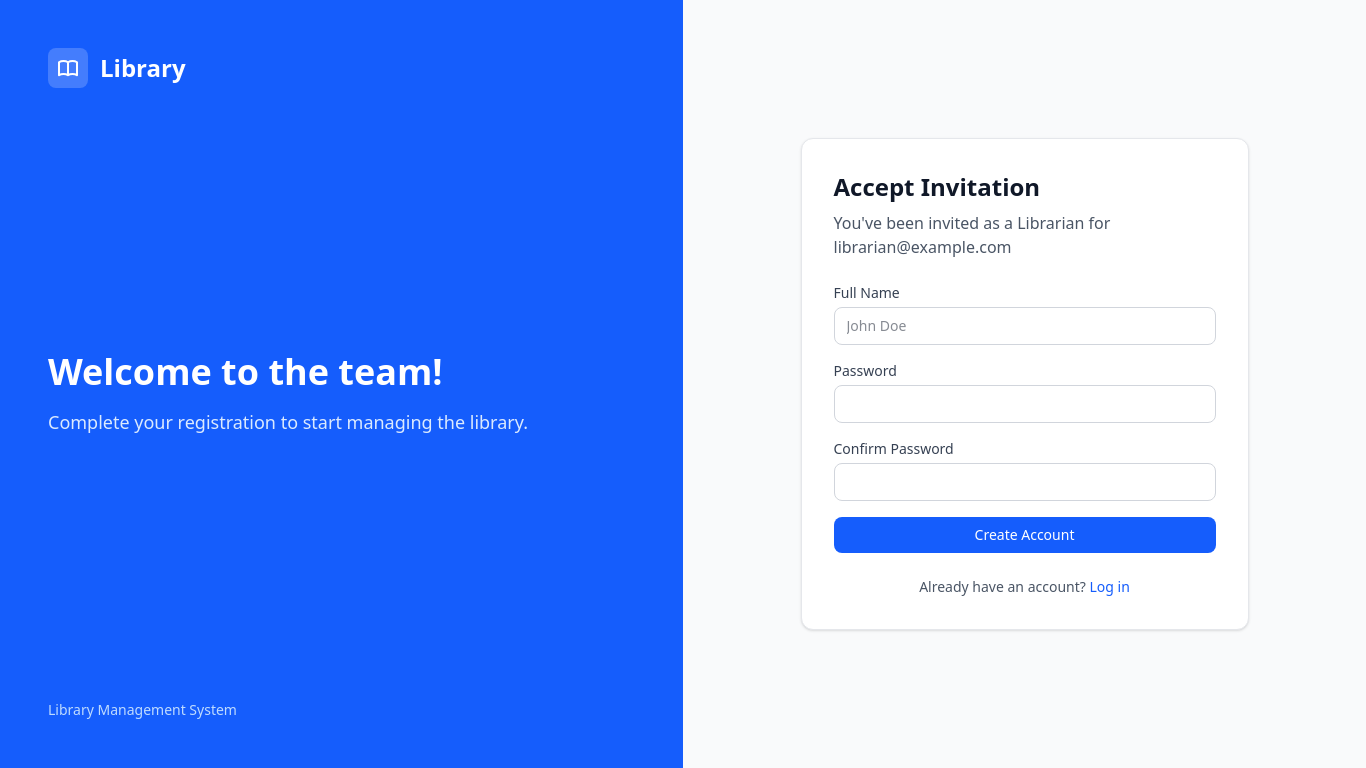
AcceptInvitation › should validate form fields
Expected: the heading "Accept Invitation" is shown, [834,170,1040,203]
Click the button "Create Account" at (1024, 535), box [834,517,1216,553]
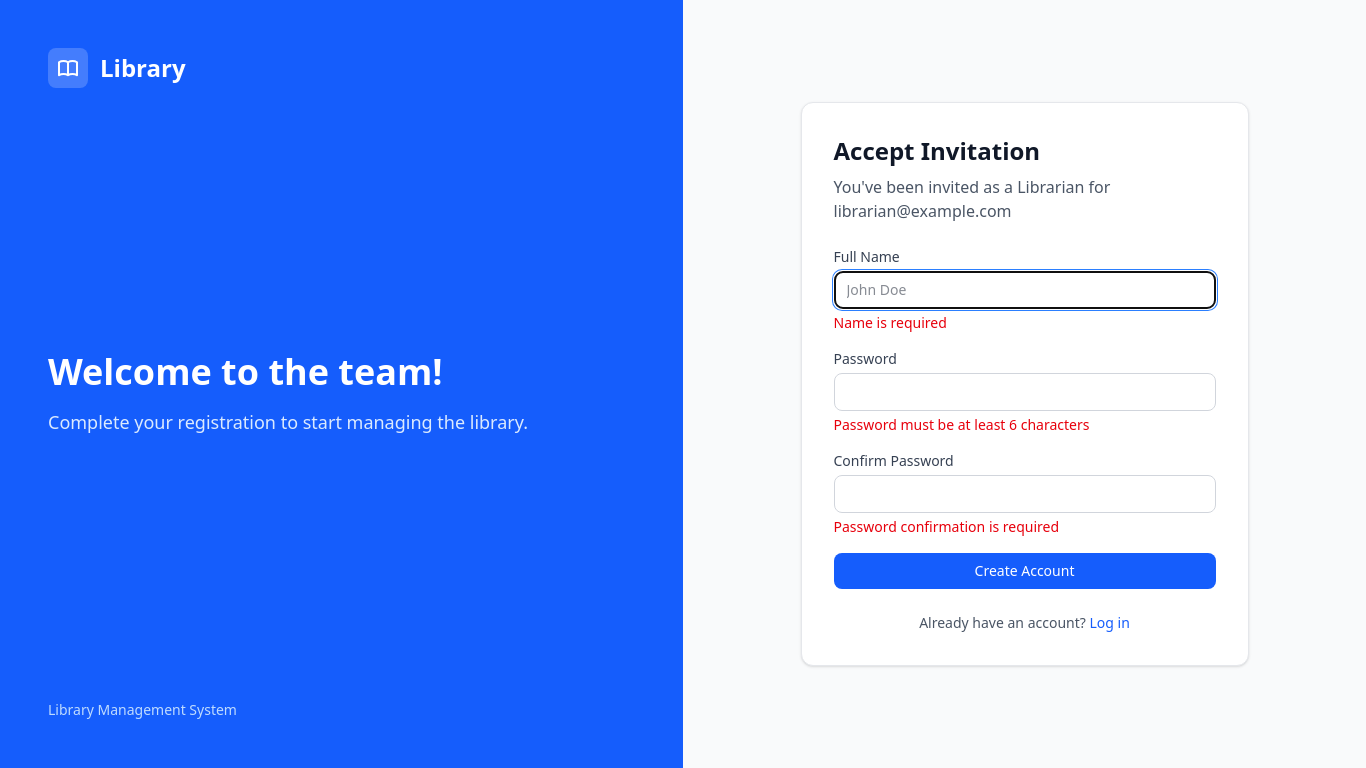
Expected: the text "Name is required" is shown, [834,313,947,332]
